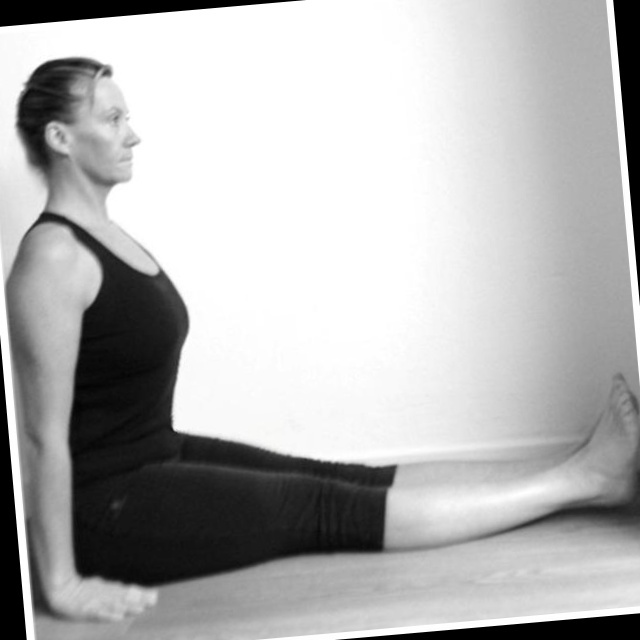Staff_Pose: (7, 58, 636, 620)
